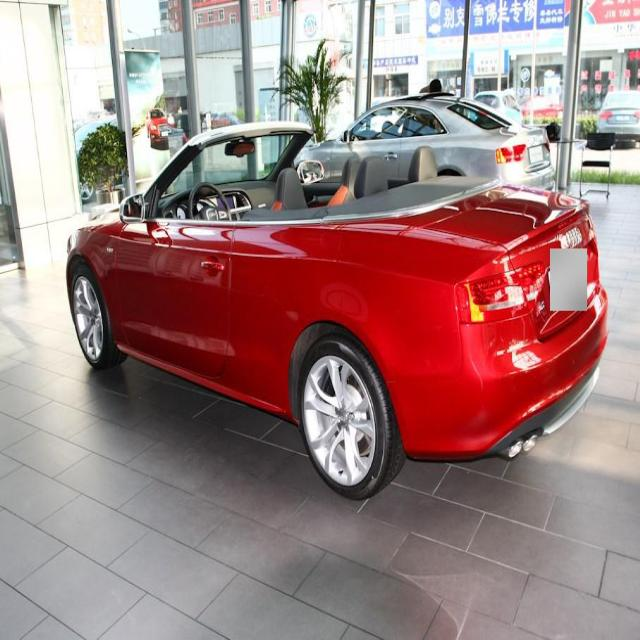back_left_side_light: (454, 256, 530, 325)
front_bumper: (160, 127, 307, 199)
front_left_side_door: (115, 205, 235, 388)
front_left_side_mirror: (118, 188, 146, 226)
rear_bumper: (402, 307, 600, 457)
wheel: (302, 334, 392, 498), (72, 267, 111, 369)
